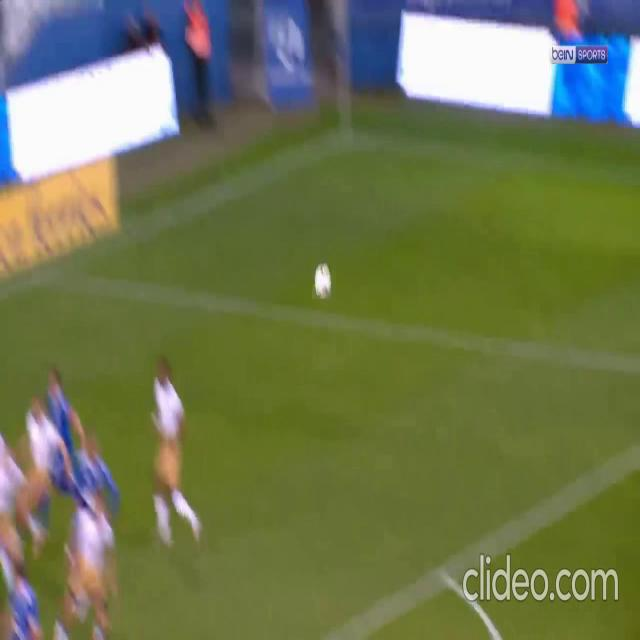player: (155, 484, 173, 550), (91, 592, 112, 640), (313, 259, 332, 303)
